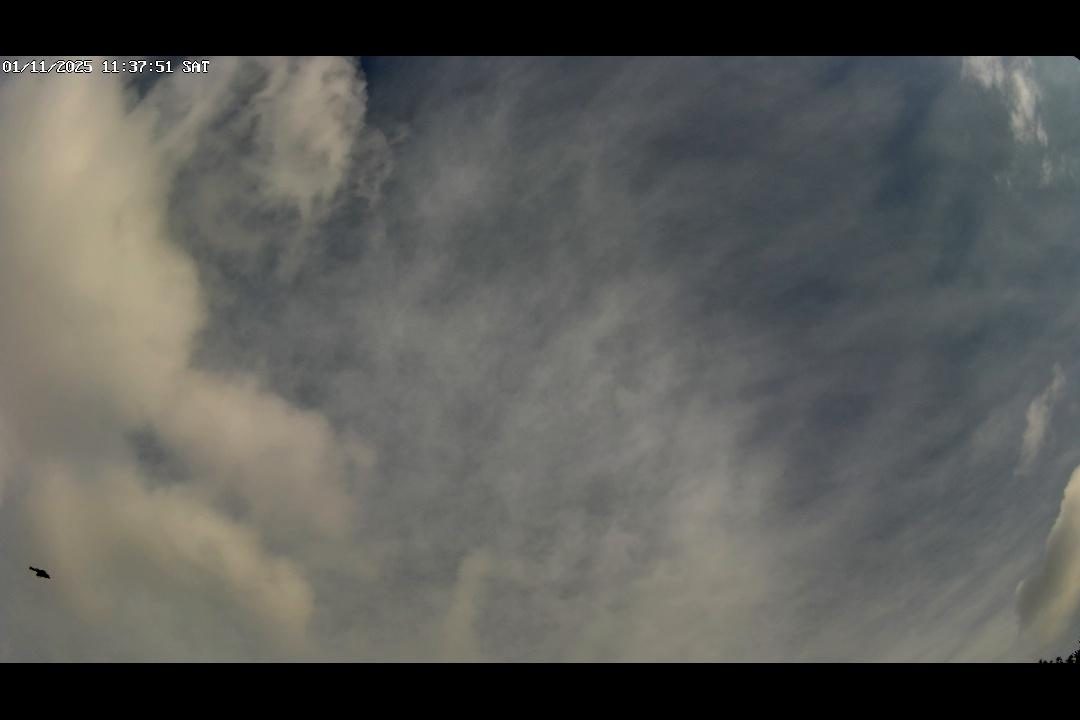WildLife: (13, 561, 74, 586)
